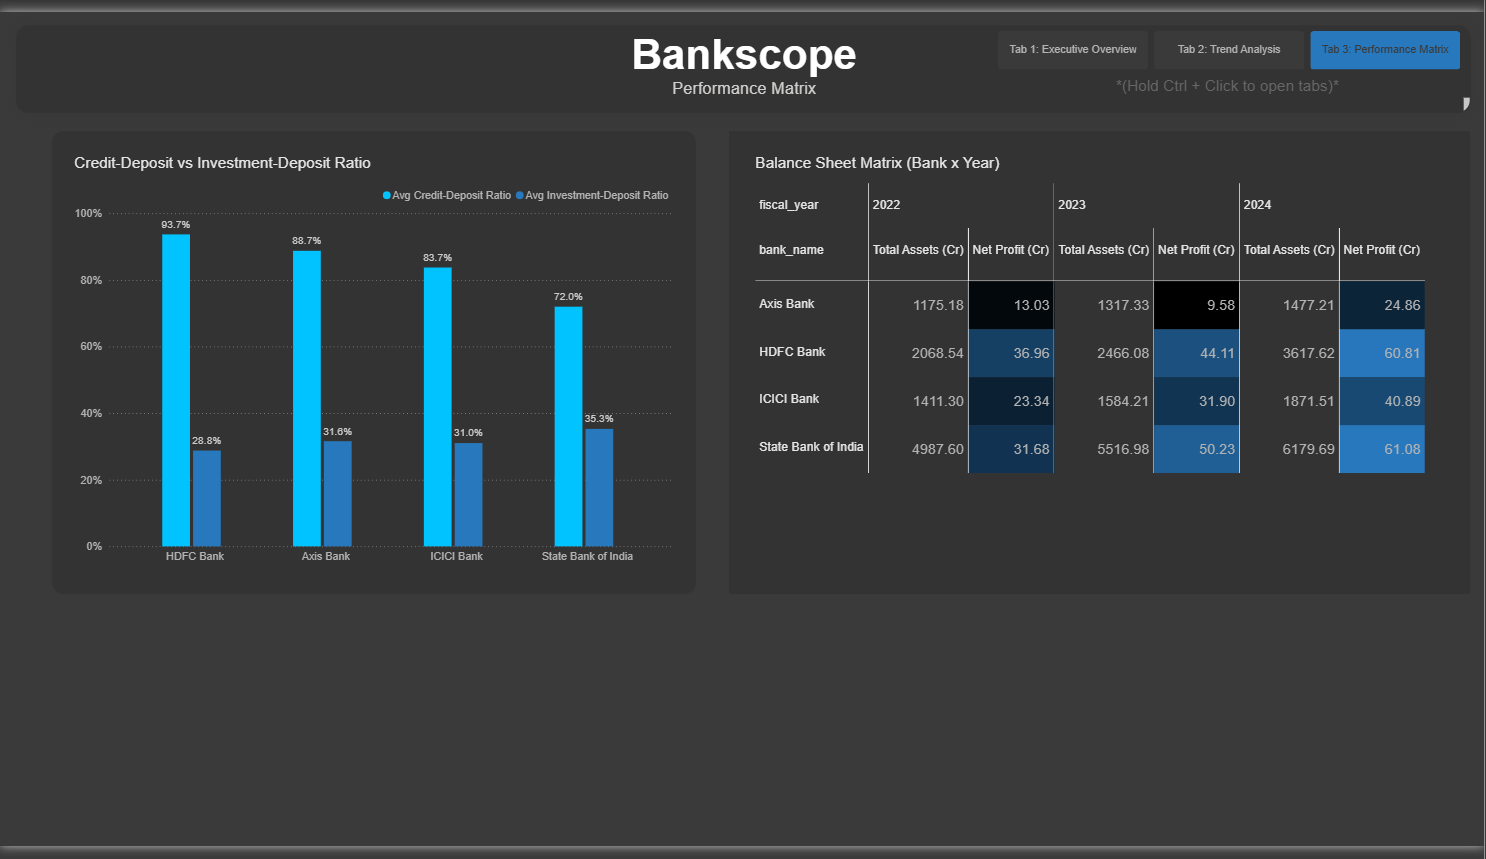

What the dashboard file says about the page in this screenshot:
{"tool":"powerbi","page":{"name":"Tab 3: Performance Matrix","canvas":[1920,1080],"ordinal":2},"visuals":[{"type":"textbox","title":"Bankscope","box":[20.1,17.4,1882.4,114],"z":0},{"type":"textbox","box":[67.1,154.3,832.9,598.6],"z":1000},{"type":"clusteredColumnChart","title":"Credit-Deposit vs Investment-Deposit Ratio","fields":{"Category":["public vw_powerbi_financial_facts_wide.bank_name"],"Y":["public vw_powerbi_financial_facts_wide.Avg Credit-Deposit Ratio","public vw_powerbi_financial_facts_wide.Avg Investment-Deposit Ratio"]},"box":[80,170,805.7,562.9],"z":2000},{"type":"textbox","box":[942.9,154.3,958.6,598.6],"z":3000},{"type":"pivotTable","title":"Balance Sheet Matrix (Bank x Year)","fields":{"Columns":["public vw_powerbi_financial_facts_wide.fiscal_year"],"Rows":["public vw_powerbi_financial_facts_wide.bank_name"],"Values":["public vw_powerbi_financial_facts_wide.Total Assets (Cr)","public vw_powerbi_financial_facts_wide.Net Profit (Cr)"]},"box":[961.3,169.5,930.2,562.8],"z":4000},{"type":"pageNavigator","box":[1291.2,24.6,600,50],"z":5000},{"type":"textbox","title":"*(Hold Ctrl + Click to open tabs)*","box":[1443.9,84.1,295,28.5],"z":5001}]}

Visuals, with their boxes in screenshot pixels (x1, y1, x2, y2), scaled from the page's 1920x1080 canvas onto the 1486x859 screenshot:
"Bankscope" textbox: (x1=16, y1=14, x2=1472, y2=105)
textbox: (x1=52, y1=123, x2=697, y2=599)
"Credit-Deposit vs Investment-Deposit Ratio" clusteredColumnChart: (x1=62, y1=135, x2=685, y2=583)
textbox: (x1=730, y1=123, x2=1472, y2=599)
"Balance Sheet Matrix (Bank x Year)" pivotTable: (x1=744, y1=135, x2=1464, y2=582)
pageNavigator: (x1=999, y1=20, x2=1464, y2=59)
"*(Hold Ctrl + Click to open tabs)*" textbox: (x1=1118, y1=67, x2=1346, y2=90)
